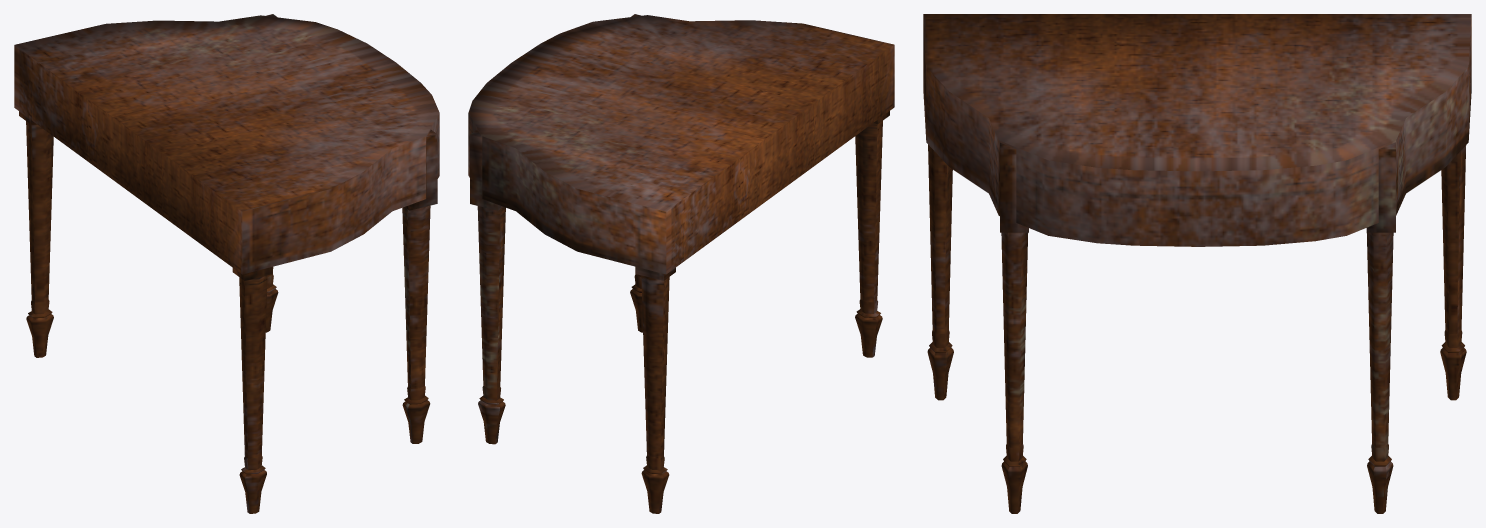
Rendered from dshape-tabletop.glb.
3 views of the same model, side by side, from view 1: azimuth 30°, elevation 25°; view 2: azimuth 150°, elevation 25°; view 3: azimuth 270°, elevation 25° (orthographic). The views are drawn at different scales.
Visible parts, largest first — view 1: DShape.Tabletop; view 2: DShape.Tabletop; view 3: DShape.Tabletop.
Boxes of the visible parts, bbox=[...] form: DShape.Tabletop: bbox=[14, 14, 439, 513]; DShape.Tabletop: bbox=[468, 14, 894, 513]; DShape.Tabletop: bbox=[923, 14, 1471, 513].
Bounding box in the file's own units: 0.7672 × 0.8467 × 1.13.
Materials: 1 (1 with a texture image).
